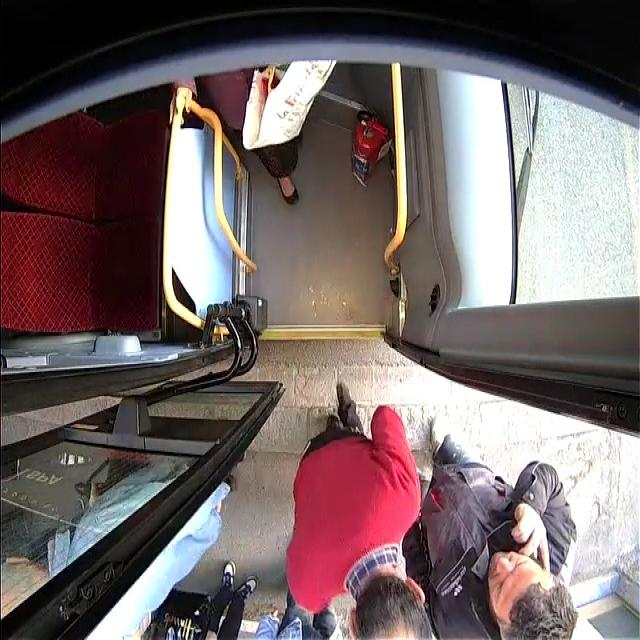bus-door: (14, 356, 640, 631)
